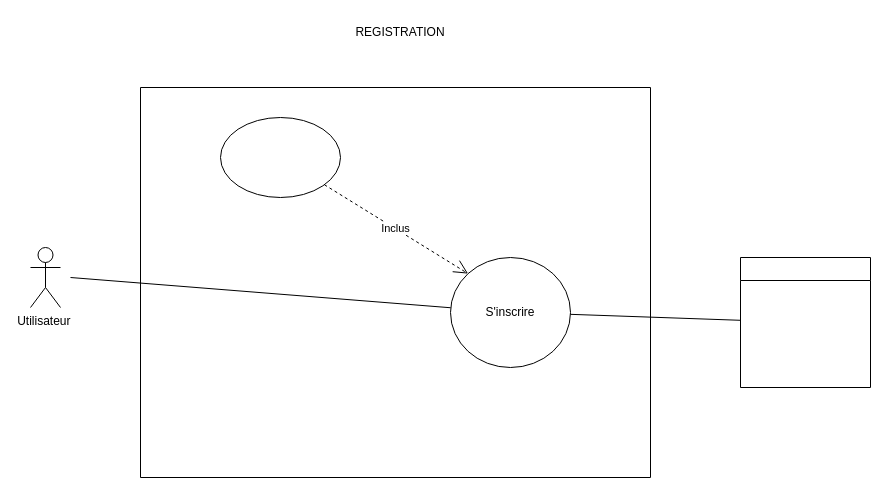
Some shapes in this 888 by 495 pixel diagram are drawn without their labels. Here are the shapes that lost their labels. From the top down, the centre of each, then its label:
At (x=280, y=157): "Ne pas être inscrit".
At (x=805, y=322): "Service Email".
